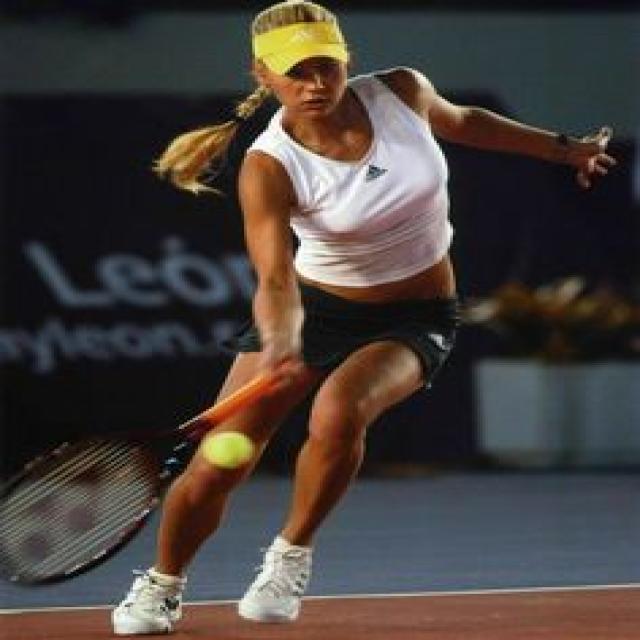tennis: (200, 424, 258, 473)
